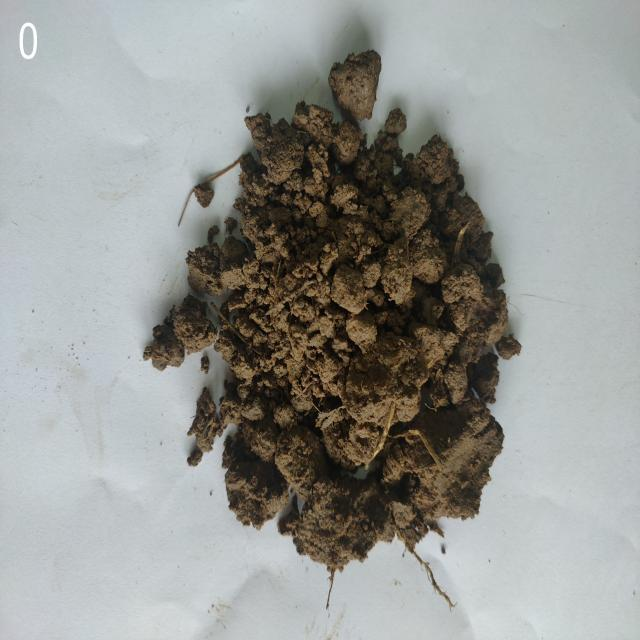soil: (270, 158, 448, 526)
